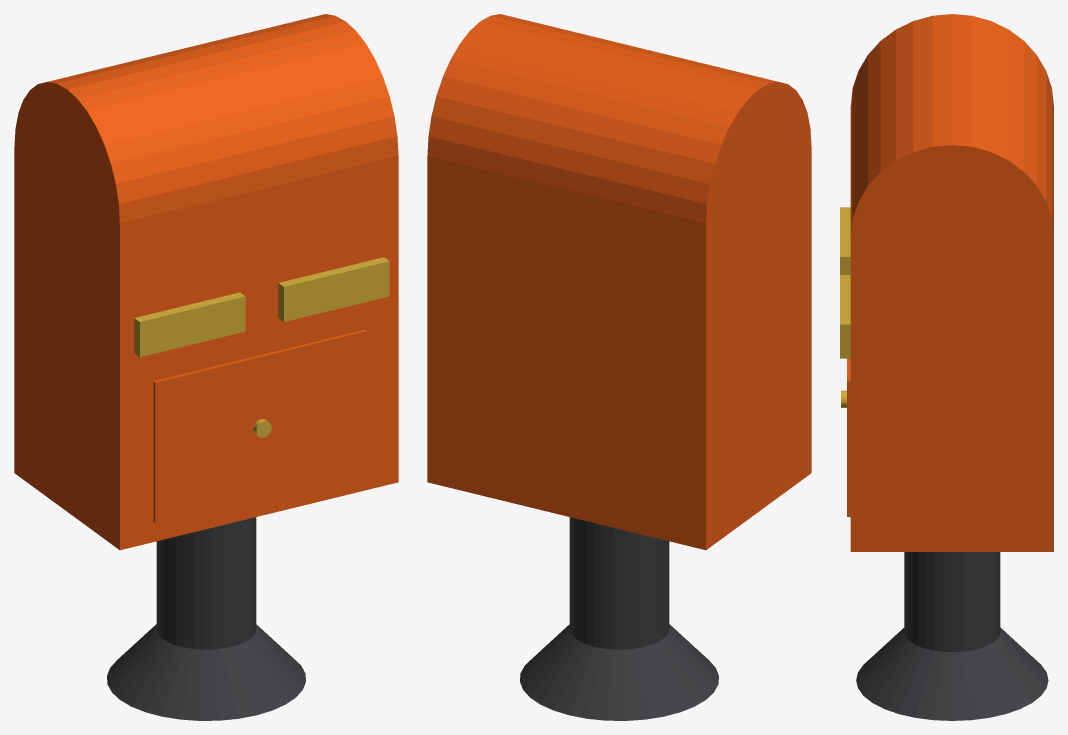
File: post-box-dutch.glb
3 views of the same model, side by side, from view 1: azimuth 30°, elevation 25°; view 2: azimuth 150°, elevation 25°; view 3: azimuth 270°, elevation 25° (orthographic). The views are drawn at different scales.
Visible parts, largest first — view 1: Cube, Cylinder.001, Cube.005, Cone, Cylinder, Cube.001, Cube.003; view 2: Cube, Cylinder.001, Cone, Cylinder; view 3: Cube, Cylinder.001, Cone, Cylinder, Cube.003, Cube.001, Cube.005.
Boxes of the visible parts, box(x1,y1,x2,y2) form: Cube: box(14, 146, 398, 550); Cylinder.001: box(14, 14, 398, 287); Cube.005: box(153, 329, 366, 523); Cone: box(107, 624, 305, 720); Cylinder: box(156, 517, 256, 649); Cube.001: box(134, 292, 245, 357); Cube.003: box(278, 257, 389, 321); Cube: box(427, 146, 811, 550); Cylinder.001: box(427, 14, 811, 287); Cone: box(520, 624, 718, 720); Cylinder: box(569, 517, 669, 649); Cube: box(850, 237, 1053, 551); Cylinder.001: box(850, 14, 1053, 328); Cone: box(856, 627, 1048, 720); Cylinder: box(904, 552, 1000, 652); Cube.003: box(840, 275, 850, 358); Cube.001: box(840, 207, 850, 274); Cube.005: box(847, 358, 850, 516).
Bounding box in the file's own units: 0.58 × 1.24 × 0.4.
